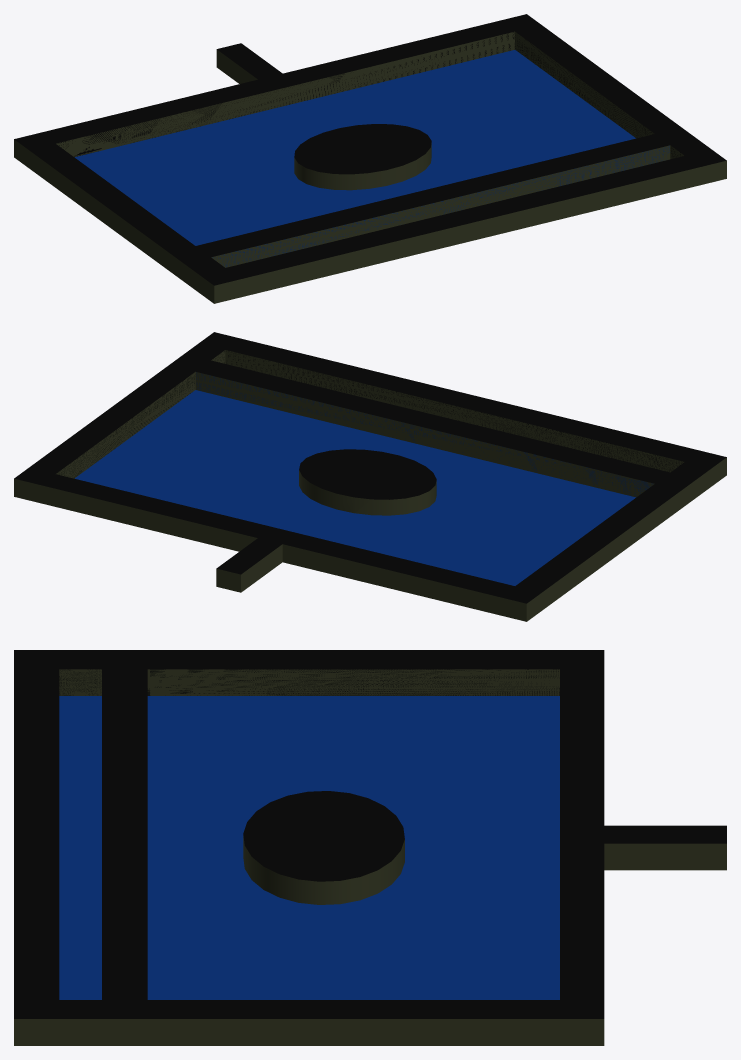
File: ORBAT_ORBAT_I_LINE.dae
3 views of the same model, one above another, from view 1: azimuth 30°, elevation 25°; view 2: azimuth 150°, elevation 25°; view 3: azimuth 270°, elevation 25° (orthographic). The views are drawn at different scales.
Parts seen in each view (by area): view 1: SketchUp (×7); view 2: SketchUp (×8); view 3: SketchUp (×8).
Part boxes in pixels (bbox=[...]): SketchUp (×7): bbox=[14, 14, 726, 303]; SketchUp (×8): bbox=[14, 332, 726, 621]; SketchUp (×8): bbox=[14, 650, 726, 1045].
Bounding box in the file's own units: 44.14 × 36.05 × 1.5.
